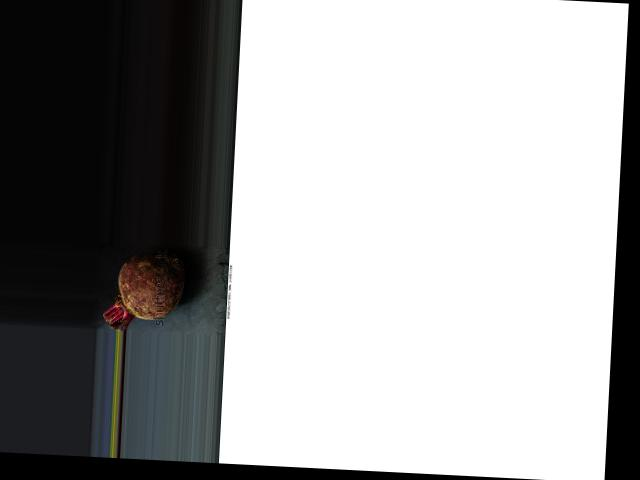beet: (103, 249, 186, 333)
